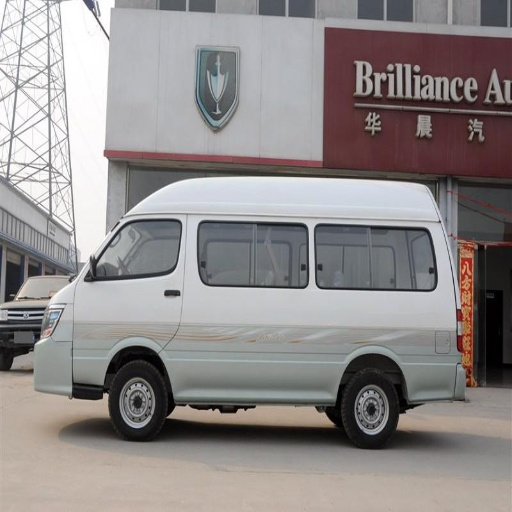trunk: (289, 288, 460, 403), (182, 16, 322, 126), (290, 217, 348, 271), (77, 336, 118, 389)
